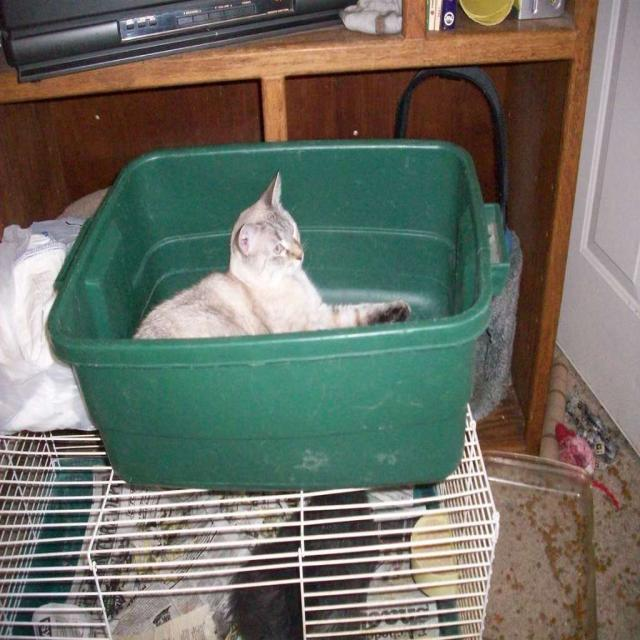Cat: (131, 172, 407, 333)
